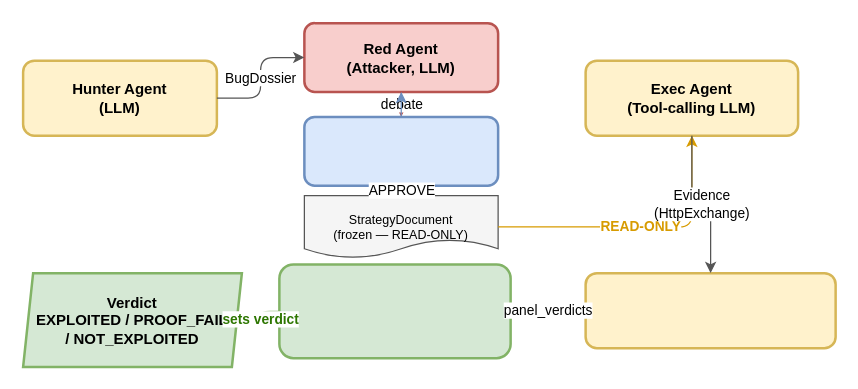
Image size: 858x389. Some labels were removed from this diagram. Each missing label, with the centre of its shape:
"Blue Agent (Skeptic, LLM)" goes at (400,150).
"ProofGate (Deterministic Code — AI cannot override)" goes at (394,310).
"Verifier Panel (3× LLM, majority vote)" goes at (710,310).
